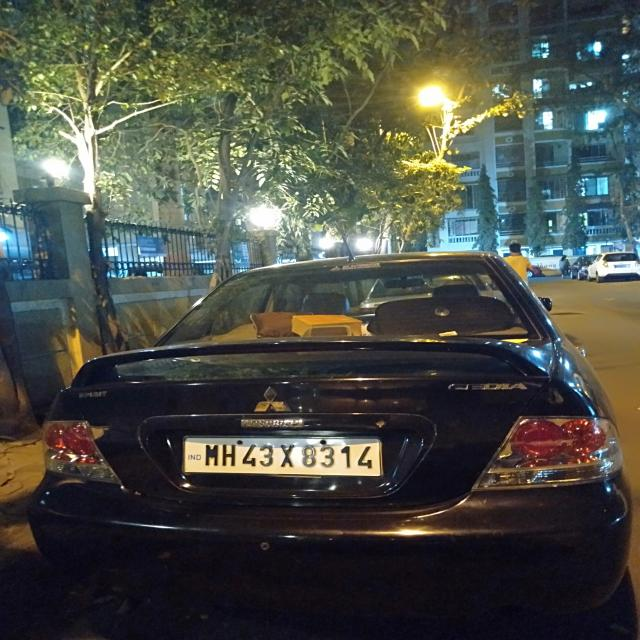Number-Plate: (182, 438, 380, 475)
